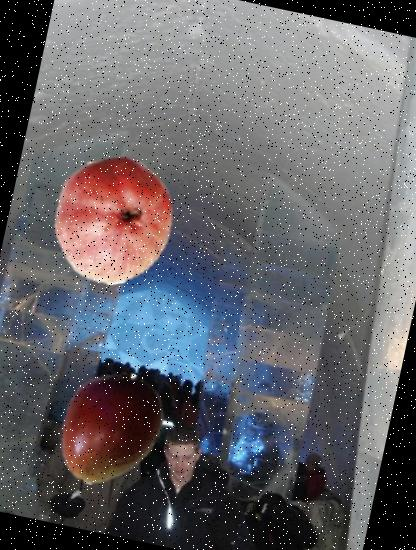Mango: (40, 360, 182, 500)
Pear: (39, 148, 188, 296)
